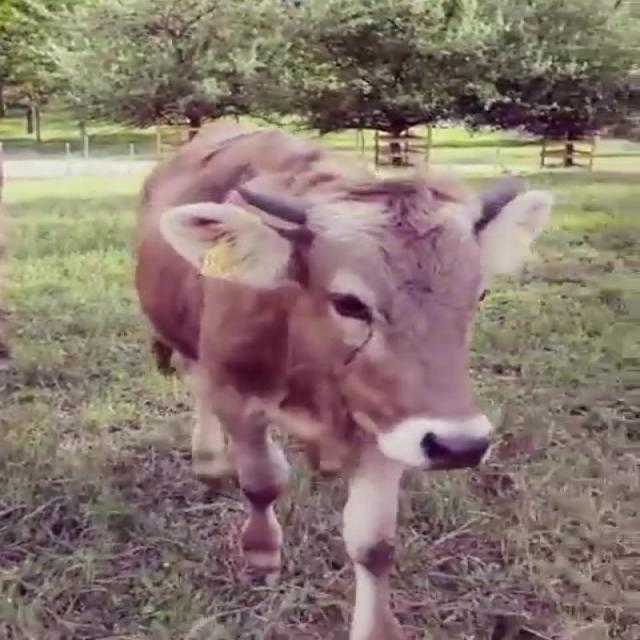cowFace: (152, 158, 569, 499)
